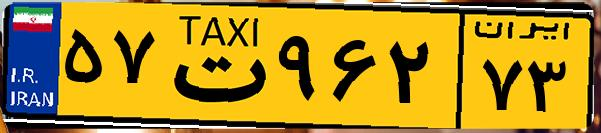2: (385, 28, 445, 110)
3: (525, 38, 570, 115)
5: (57, 26, 110, 100)
6: (330, 28, 385, 110)
7: (475, 38, 525, 113), (110, 28, 158, 98)
9: (270, 28, 330, 110)
ت: (158, 12, 270, 120)
